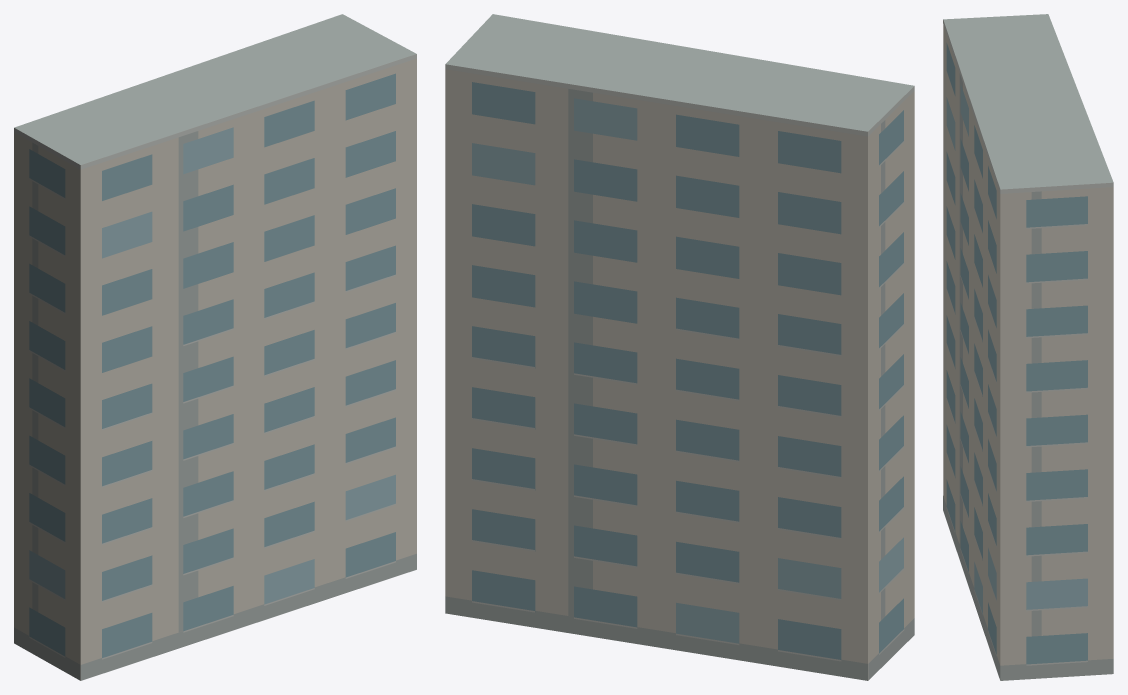
Rendered from survey-upis-32630944.glb.
3 renders of one model, left to right at view 1: azimuth 30°, elevation 25°; view 2: azimuth 150°, elevation 25°; view 3: azimuth 270°, elevation 25°, orthographic. The views are drawn at different scales.
Visible parts, largest first — view 1: survey-upis-32630944.tmp; view 2: survey-upis-32630944.tmp; view 3: survey-upis-32630944.tmp.
Boxes of the visible parts, bbox=[...] form: survey-upis-32630944.tmp: bbox=[14, 14, 416, 680]; survey-upis-32630944.tmp: bbox=[445, 14, 914, 680]; survey-upis-32630944.tmp: bbox=[943, 14, 1113, 680].
Size of the model in its own units: 21.05 by 27.45 by 8.64.
